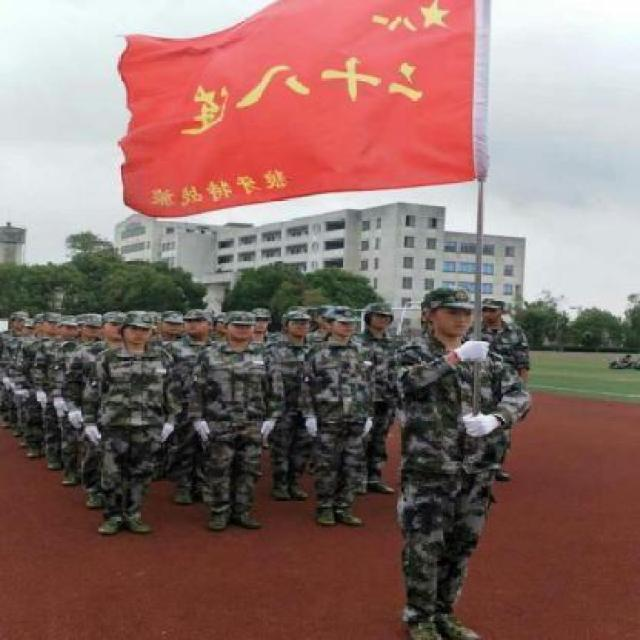face_nomask: (434, 304, 472, 342), (228, 317, 255, 343), (122, 324, 149, 348), (226, 322, 254, 344), (371, 309, 391, 337), (185, 314, 209, 337), (334, 317, 358, 337), (288, 316, 308, 338), (160, 317, 180, 337)
hand_glove: (462, 411, 498, 438), (456, 344, 492, 367), (258, 417, 280, 443), (82, 424, 105, 448), (191, 417, 212, 441), (32, 390, 54, 412), (63, 409, 85, 429), (300, 418, 322, 436), (54, 397, 69, 420), (158, 422, 174, 443), (361, 417, 374, 437), (12, 386, 31, 399)
person: (396, 275, 516, 640), (95, 310, 168, 542), (212, 305, 276, 529), (316, 309, 366, 522), (272, 308, 316, 517), (354, 297, 395, 503), (180, 310, 214, 352)
